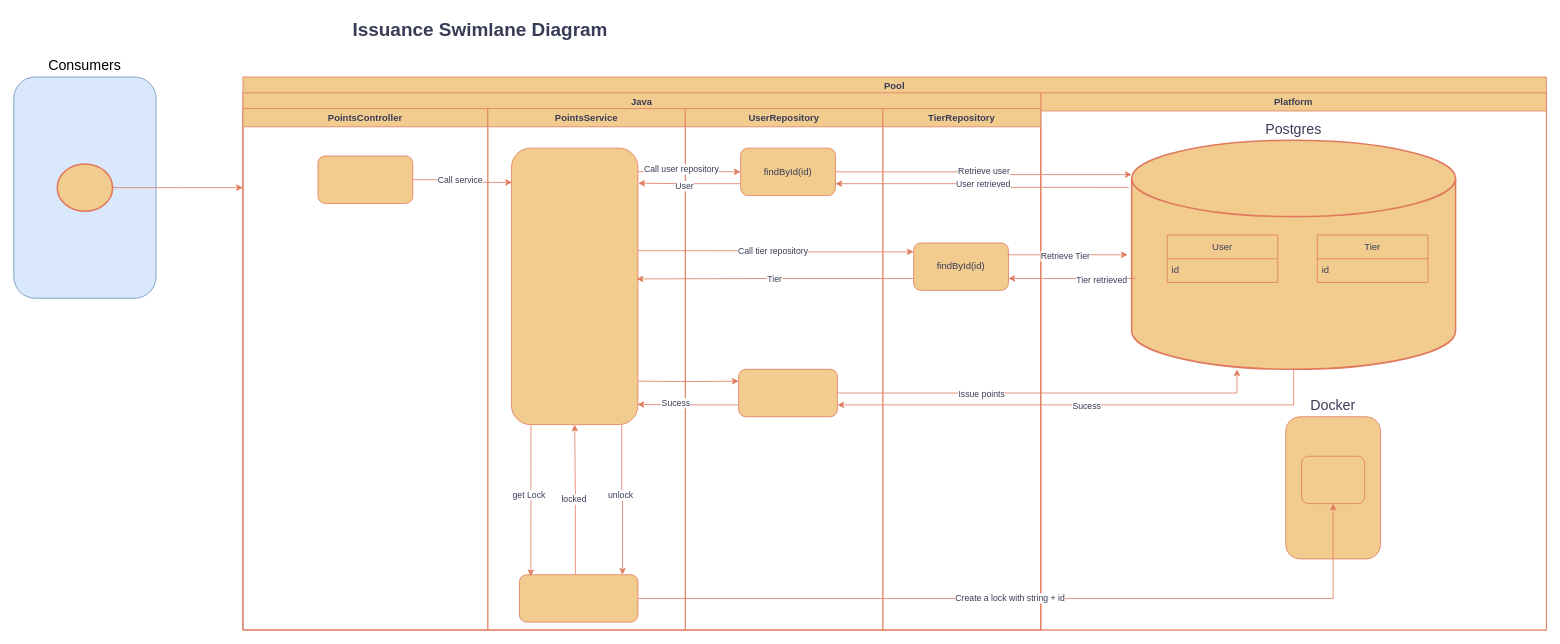
Some shapes in this 1560 by 644 pixel diagram are drawn without their labels. Here are the shapes that lost their labels. From the top down, the centre of each, then its label:
At [365,179]: "POST /api/v1/points/issue @Param id @Param points".
At [574,286]: "issuePointsService( id, points )".
At [787,393]: "issuePointsQuery( id, newPoints)".
At [1333,479]: "Redis".
At [578,598]: "Lock".
